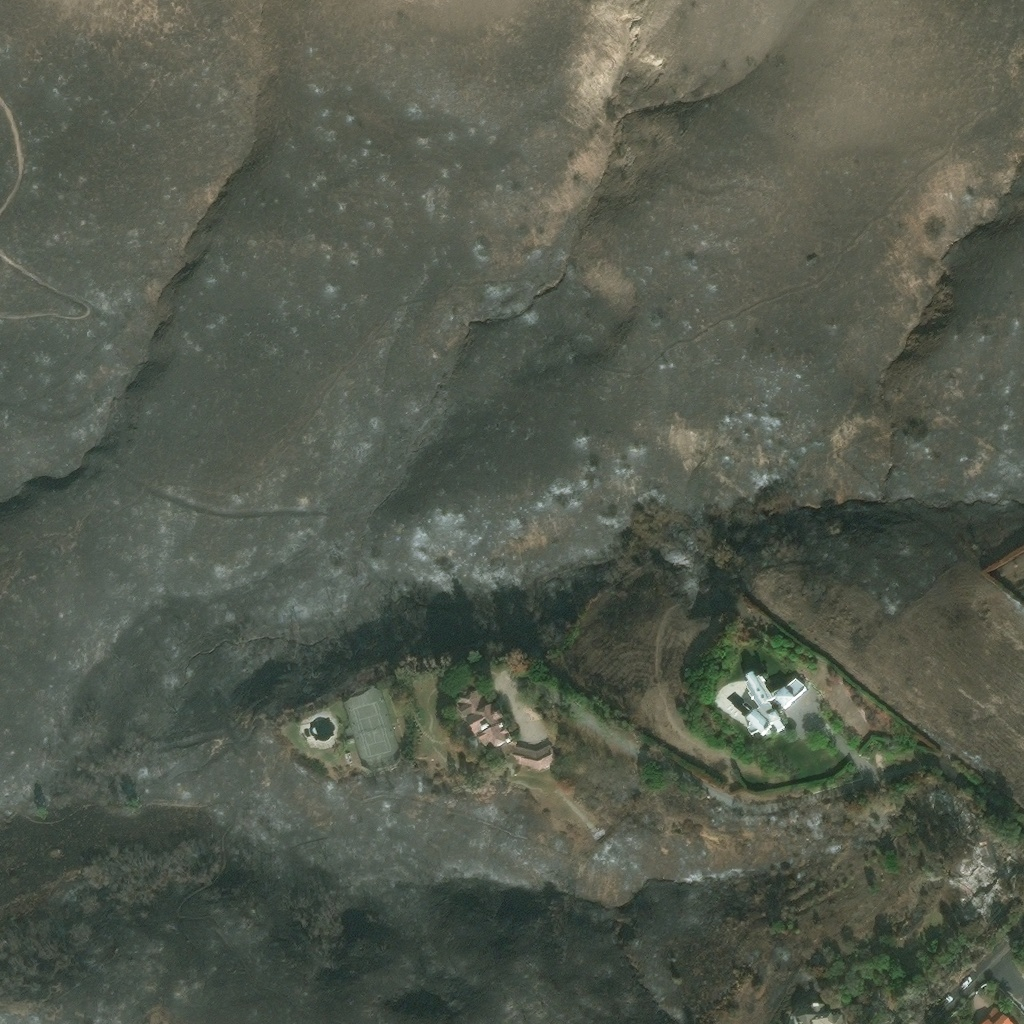0 no-damage: (453, 685, 555, 768), (743, 669, 804, 736), (791, 1000, 847, 1023), (979, 1004, 1014, 1023)
3 destroyed: (956, 852, 1010, 929), (932, 784, 954, 809), (590, 824, 607, 839)
